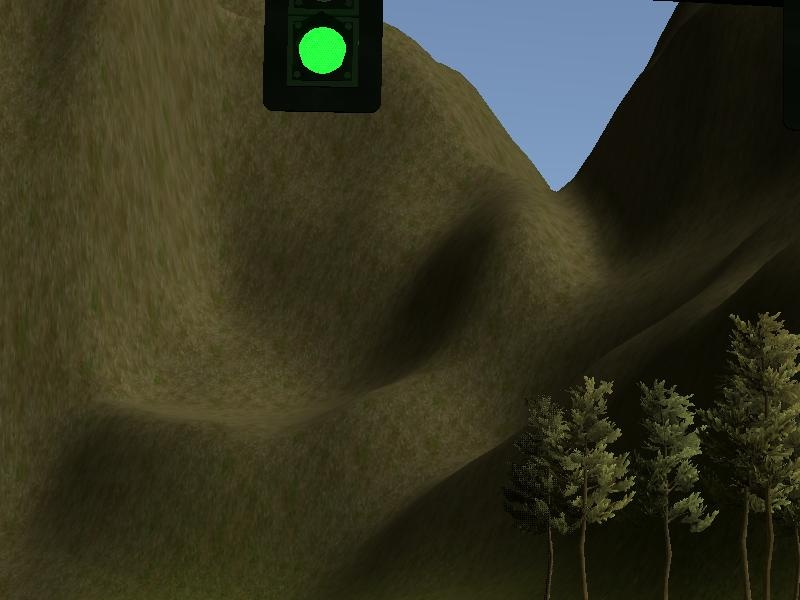traffic_light_green: (1, 1, 658, 115)
